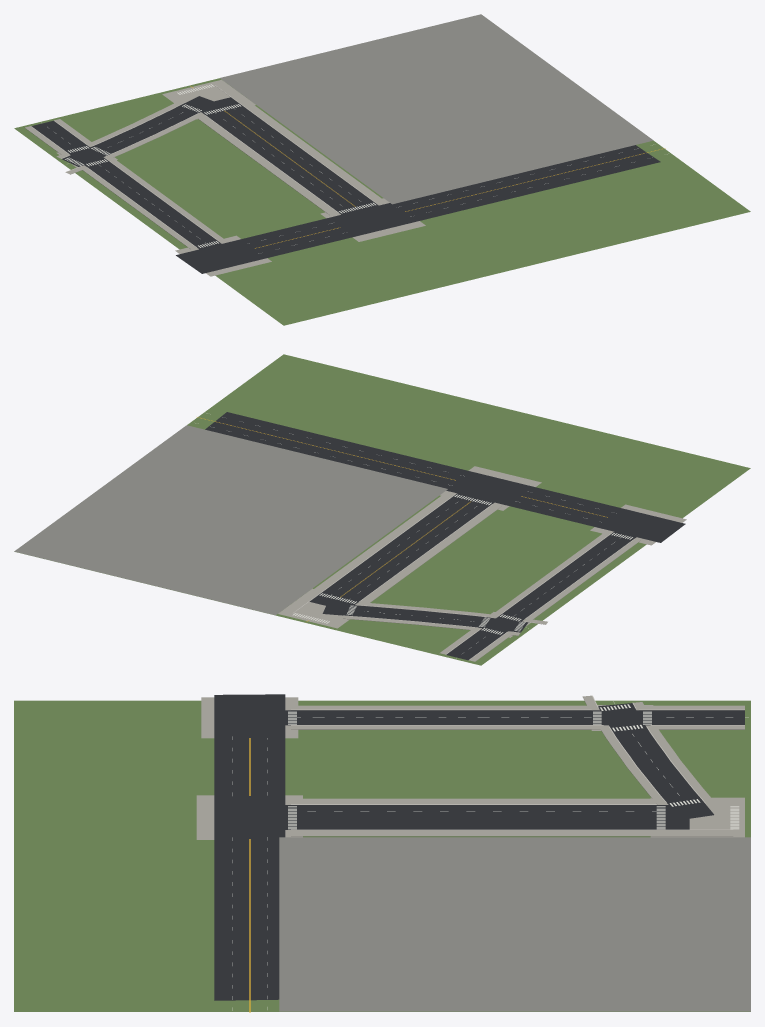
Rendered from Ground_5_0.fbx.
3 renders of one model, top to bottom at view 1: azimuth 30°, elevation 25°; view 2: azimuth 150°, elevation 25°; view 3: azimuth 270°, elevation 25°, orthographic. The views are drawn at different scales.
Visible parts, largest first — view 1: Ground_5_0; view 2: Ground_5_0; view 3: Ground_5_0.
Boxes of the visible parts, box(x1,y1,x2,y2) form: Ground_5_0: box(14, 14, 750, 325); Ground_5_0: box(14, 354, 750, 665); Ground_5_0: box(14, 694, 750, 1012).
Bounding box in the file's own units: 256 × 0.14 × 250.
